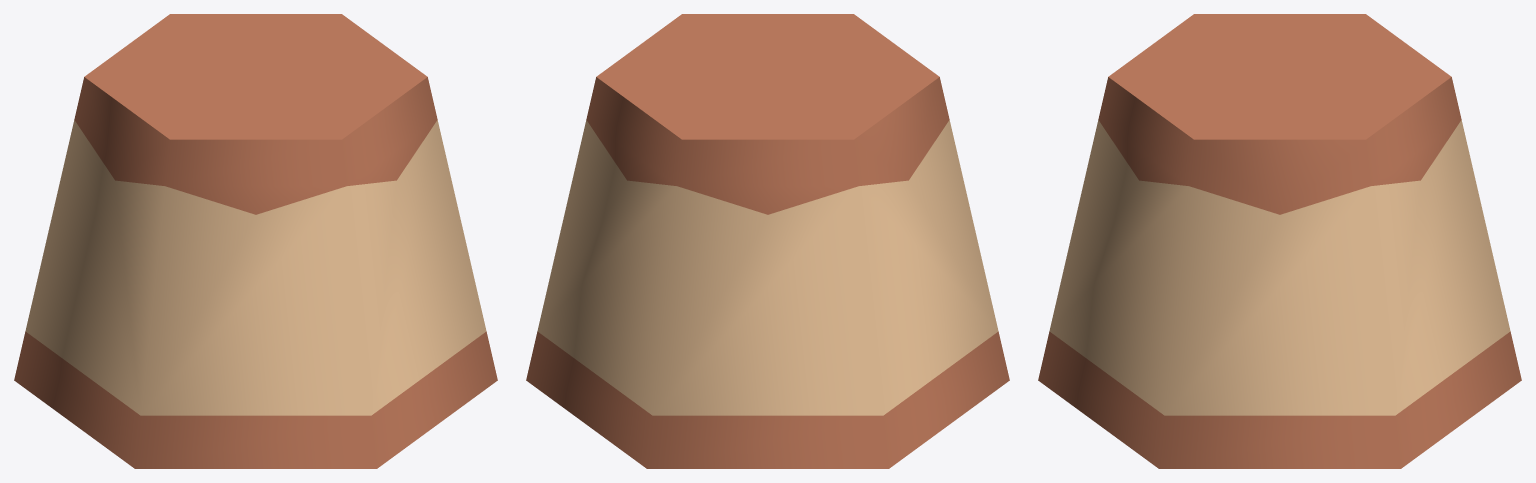
The model's file is pudding.obj.
3 views of the same model, side by side, from view 1: azimuth 30°, elevation 25°; view 2: azimuth 150°, elevation 25°; view 3: azimuth 270°, elevation 25° (orthographic).
Parts seen in each view (by area): view 1: pudding; view 2: pudding; view 3: pudding.
Part boxes in pixels (left/top/right/bottom): pudding: left=14, top=14, right=497, bottom=468; pudding: left=526, top=14, right=1009, bottom=468; pudding: left=1038, top=14, right=1521, bottom=468.
Size of the model in its own units: 0.2499 by 0.1998 by 0.2886.
